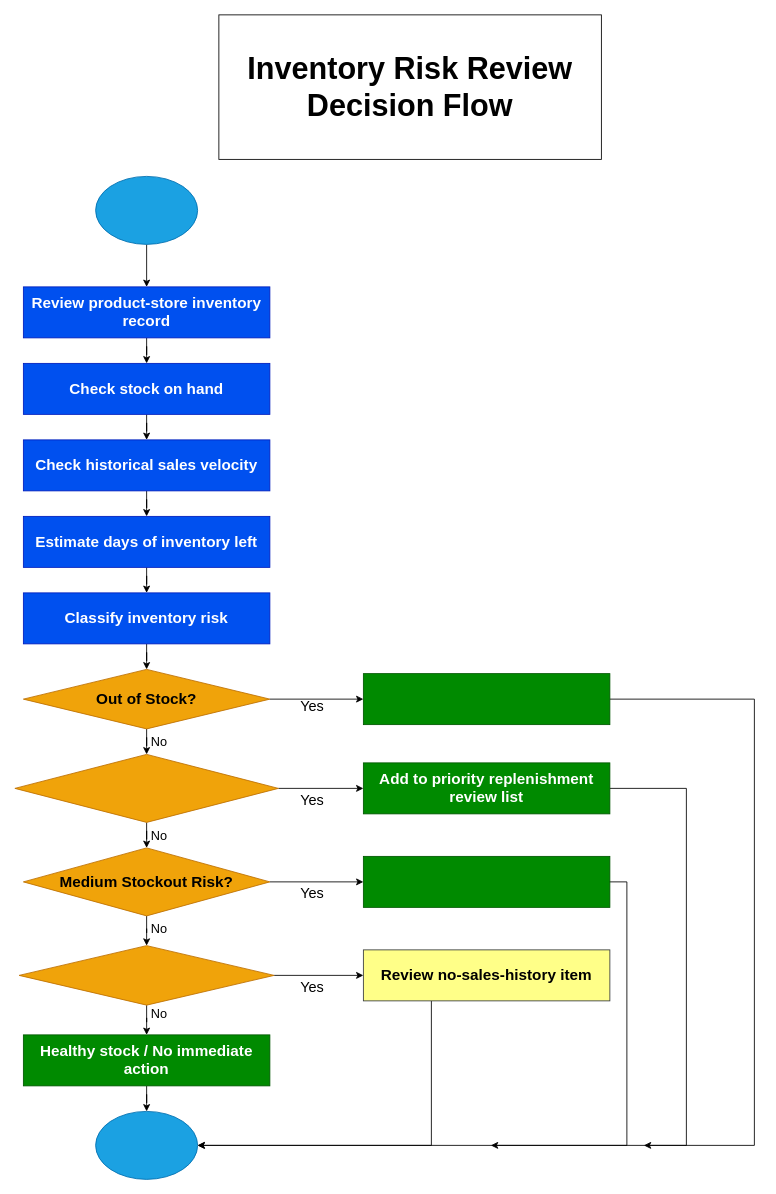
Image size: 776x1194. Some labels were removed from this diagram. The shapes that lost their labels are listed below. From the top down, each one's box as (x1, y1, x2, y2) in pixels, then its label:
(95, 176, 198, 244): Start
(363, 673, 610, 725): Add to urgent inventory review list
(14, 754, 278, 822): High Stockout Risk?
(363, 856, 610, 907): Add to weekly inventory watchlist
(18, 945, 274, 1005): No Sales History?
(95, 1111, 198, 1179): End
